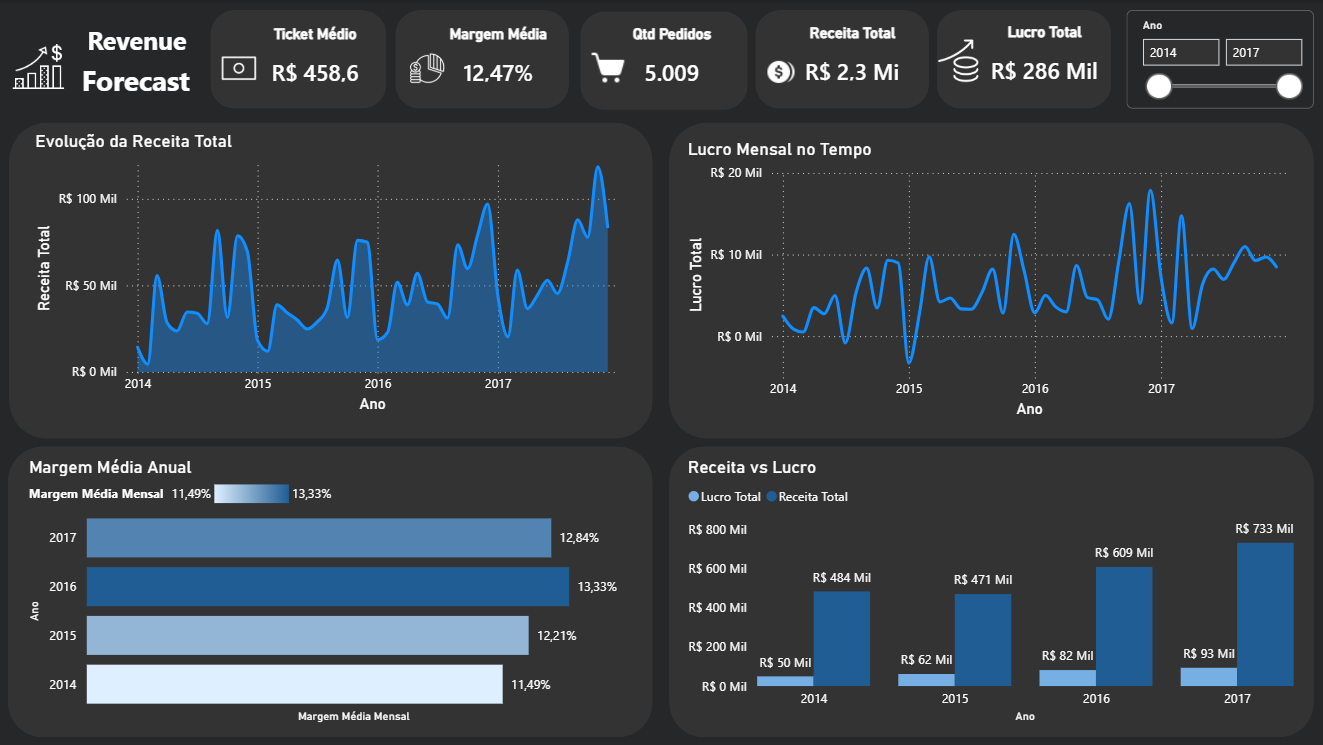

The dashboard page shown, as its layout file describes it:
{"tool":"powerbi","page":{"name":"Revenue Overview","canvas":[1280,720],"ordinal":0},"visuals":[{"type":"shape","box":[904.8,9.7,168.9,95.3],"z":0},{"type":"shape","box":[382.7,9.4,167.7,95.3],"z":1000},{"type":"shape","box":[560.8,10.6,161.7,95.3],"z":2000},{"type":"shape","box":[730.1,9.7,167.7,95.3],"z":3000},{"type":"shape","box":[8.4,430.7,622.5,281.1],"z":4000},{"type":"shape","box":[9.7,118.2,621.3,305.2],"z":5000},{"type":"shape","box":[646.7,118.2,622.5,305.2],"z":6000},{"type":"cardVisual","title":"Receita Total","fields":{"Data":["Medidas.Receita Total"]},"box":[729.7,23.2,187.9,72],"z":7000},{"type":"cardVisual","title":"Lucro Total","fields":{"Data":["Medidas.Lucro Total"]},"box":[925.3,21.7,167.7,73.6],"z":8000},{"type":"cardVisual","title":"Qtd Pedidos","fields":{"Data":["Medidas.Qtd Pedidos"]},"box":[580.1,23.9,138.7,72.4],"z":9000},{"type":"cardVisual","title":"Margem Média","fields":{"Data":["Medidas.Margem Média Mensal"]},"box":[414.1,23.9,136.3,72.4],"z":10000},{"type":"lineChart","title":"Evolução da Receita Total","fields":{"Y":["Medidas.Receita Total"],"Category":["monthly_revenue_base.month_start.Variation.Hierarquia de datas.Ano","monthly_revenue_base.month_start.Variation.Hierarquia de datas.Mês"]},"box":[30.2,125.5,575.5,277.5],"z":11000},{"type":"lineChart","title":"Lucro Mensal no Tempo","fields":{"Y":["Medidas.Lucro Total"],"Category":["monthly_revenue_base.month_start.Variation.Hierarquia de datas.Ano","monthly_revenue_base.month_start.Variation.Hierarquia de datas.Mês"]},"box":[659.9,133.9,591.2,273.9],"z":12000},{"type":"clusteredBarChart","title":"Margem Média Anual","fields":{"Category":["monthly_revenue_base.month_start.Variation.Hierarquia de datas.Ano"],"Y":["Medidas.Margem Média Mensal"]},"box":[24.1,440.4,581.5,261.8],"z":13000},{"type":"textbox","box":[24.1,18.1,224.4,45.8],"z":14000},{"type":"image","box":[9.7,21.7,56.7,85.7],"z":15000},{"type":"textbox","box":[74.8,54.3,154.4,49.5],"z":16000},{"type":"slicer","fields":{"Values":["monthly_revenue_base.month_start.Variation.Hierarquia de datas.Ano"]},"box":[1088.2,9.7,181,95.3],"z":17000},{"type":"shape","box":[646.7,430.7,622.5,281.1],"z":18000},{"type":"clusteredColumnChart","title":"Receita vs Lucro","fields":{"Category":["monthly_revenue_base.month_start.Variation.Hierarquia de datas.Ano","monthly_revenue_base.month_start.Variation.Hierarquia de datas.Trimestre","monthly_revenue_base.month_start.Variation.Hierarquia de datas.Mês","monthly_revenue_base.month_start.Variation.Hierarquia de datas.Dia"],"Y":["Medidas.Lucro Total","Medidas.Receita Total"]},"box":[659.9,440.4,594.8,261.8],"z":19000},{"type":"shape","box":[203.9,9.7,170.1,95.3],"z":20000},{"type":"cardVisual","title":"Ticket Médio","fields":{"Data":["Medidas.Ticket Médio"]},"box":[228,24.1,154.4,72.4],"z":21000},{"type":"image","box":[738.3,42.2,32.6,54.3],"z":22000},{"type":"image","box":[570.6,35,35,61.5],"z":23000},{"type":"image","box":[214.7,38.6,33.8,54.3],"z":24000},{"type":"image","box":[904.8,31.4,41,54.3],"z":25000},{"type":"image","box":[395.7,35,35,61.5],"z":26000}]}

Visuals, with their boxes in screenshot pixels (x1, y1, x2, y2), scaled from the page's 1280x720 canvas onto the 1323x745 screenshot:
shape: 935:10:1110:109
shape: 396:10:569:108
shape: 580:11:747:110
shape: 755:10:928:109
shape: 9:446:652:737
shape: 10:122:652:438
shape: 668:122:1312:438
"Receita Total" cardVisual: 754:24:948:99
"Lucro Total" cardVisual: 956:22:1130:99
"Qtd Pedidos" cardVisual: 600:25:743:100
"Margem Média" cardVisual: 428:25:569:100
"Evolução da Receita Total" lineChart: 31:130:626:417
"Lucro Mensal no Tempo" lineChart: 682:139:1293:422
"Margem Média Anual" clusteredBarChart: 25:456:626:727
textbox: 25:19:257:66
image: 10:22:69:111
textbox: 77:56:237:107
slicer - monthly_revenue_base.month_start.Variation.Hierarquia de datas.Ano: 1125:10:1312:109
shape: 668:446:1312:737
"Receita vs Lucro" clusteredColumnChart: 682:456:1297:727
shape: 211:10:387:109
"Ticket Médio" cardVisual: 236:25:395:100
image: 763:44:797:100
image: 590:36:626:100
image: 222:40:257:96
image: 935:32:978:89
image: 409:36:445:100
